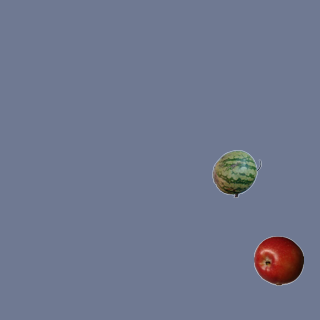Apple Braeburn: (253, 235, 303, 285)
Watermelon: (211, 148, 261, 198)
